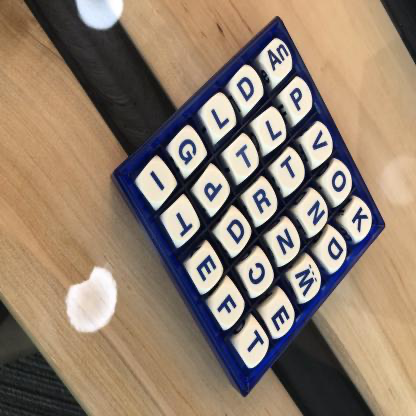an: (263, 42, 293, 82)
c: (243, 254, 272, 293)
d: (220, 211, 250, 250), (233, 69, 261, 107), (322, 232, 348, 265)
e: (191, 248, 221, 288), (266, 295, 296, 335)
f: (214, 289, 243, 325)
g: (173, 131, 205, 172)
i: (139, 159, 175, 202)
k: (344, 202, 374, 239)
l: (203, 97, 234, 137), (258, 111, 286, 149)
n: (301, 190, 330, 229), (272, 225, 301, 259)
o: (324, 161, 353, 199)
p: (200, 170, 229, 208), (285, 81, 312, 116)
r: (249, 182, 277, 219)
t: (237, 322, 270, 365), (169, 201, 201, 245), (228, 139, 260, 182), (276, 150, 302, 188)
v: (303, 125, 330, 161)
w: (290, 259, 320, 302)
